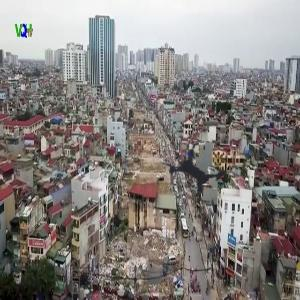drone: (140, 111, 260, 231)
